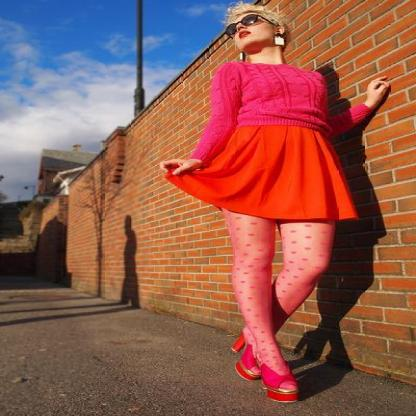jacket: (190, 61, 372, 157)
shoe: (237, 358, 297, 400)
skirt: (166, 125, 357, 232)
sunglass: (229, 0, 266, 25)
